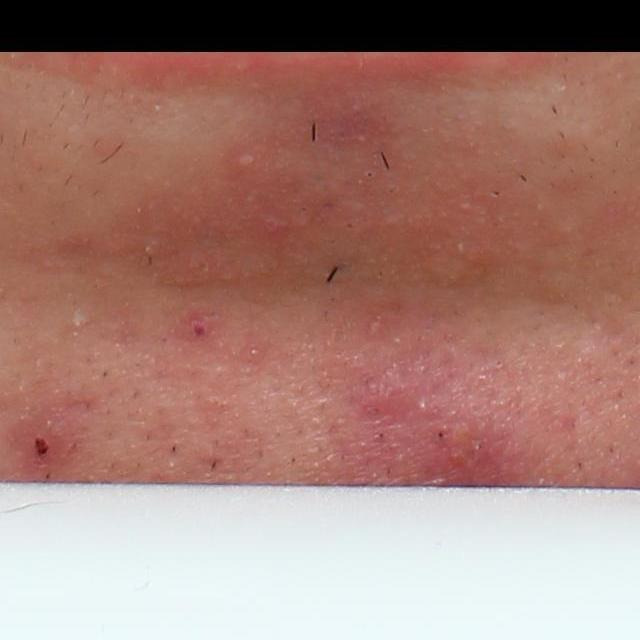comedo: (70, 312, 88, 330), (492, 358, 505, 370)
papule: (361, 372, 423, 415), (18, 425, 69, 474), (180, 311, 214, 338)
pustule: (231, 147, 259, 173)
